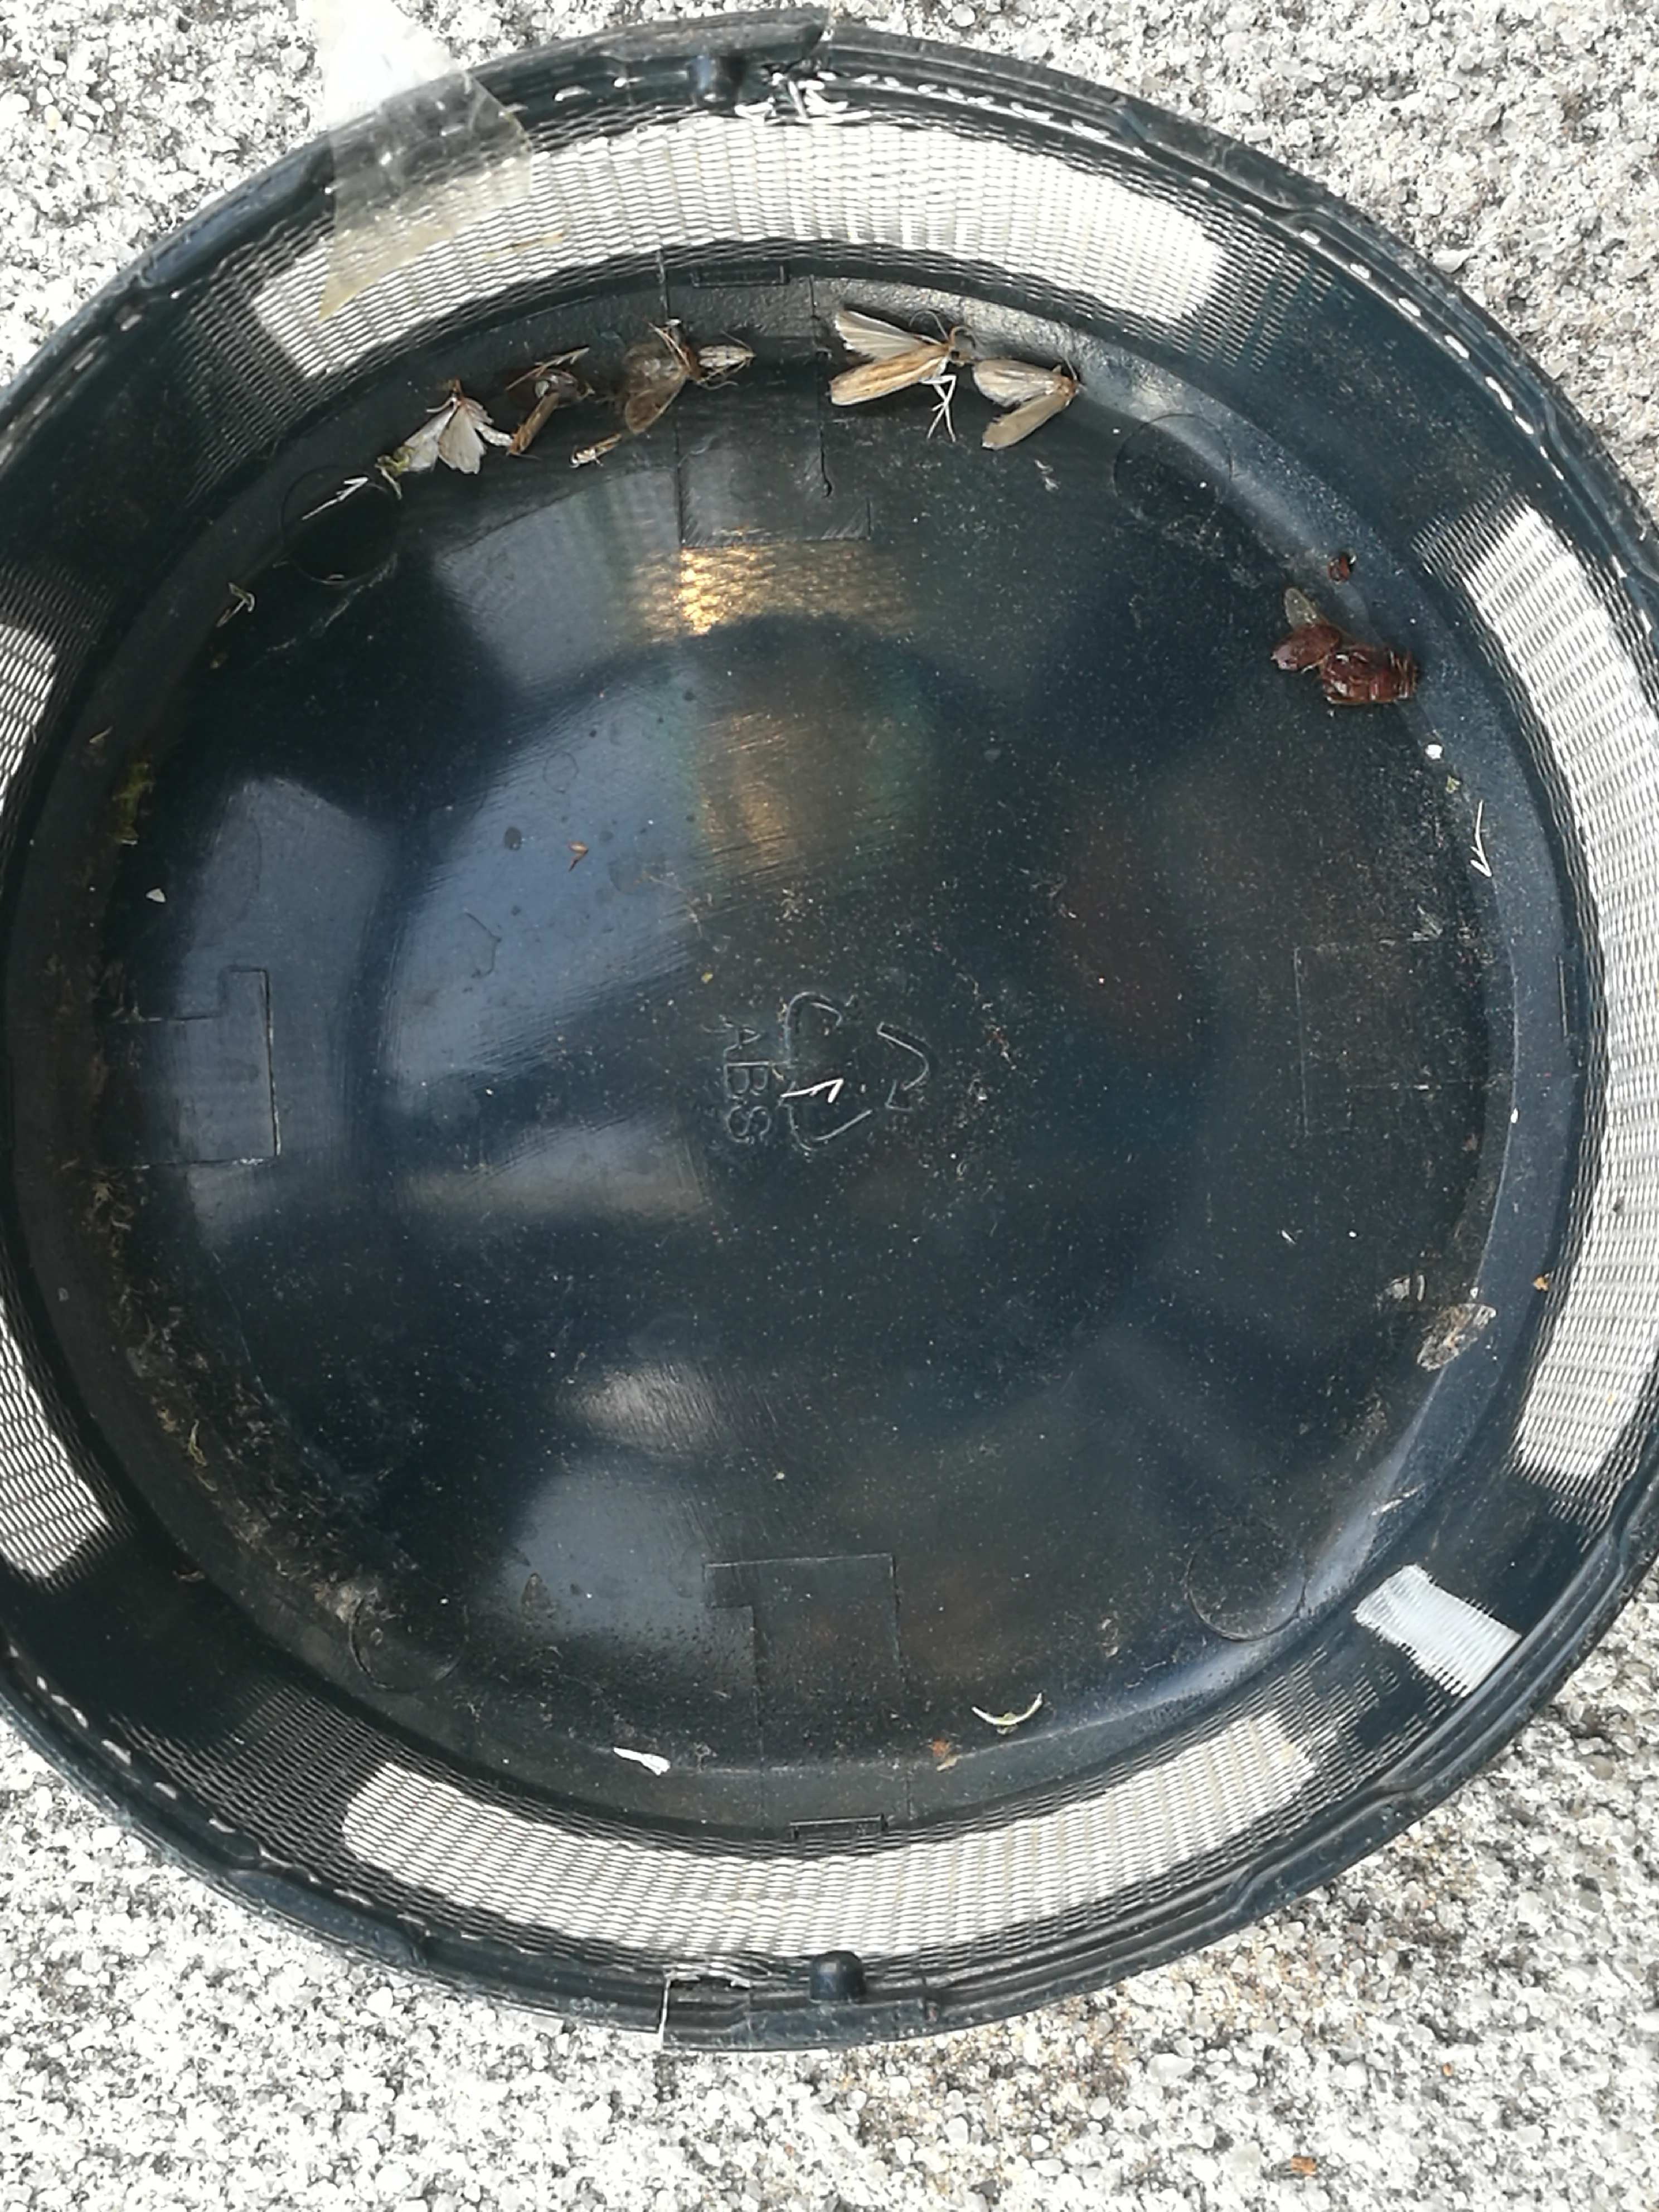mosquito: (511, 390, 559, 453), (699, 345, 753, 368)
moth: (829, 312, 962, 404), (971, 359, 1073, 449), (403, 392, 511, 474), (624, 329, 697, 432)
